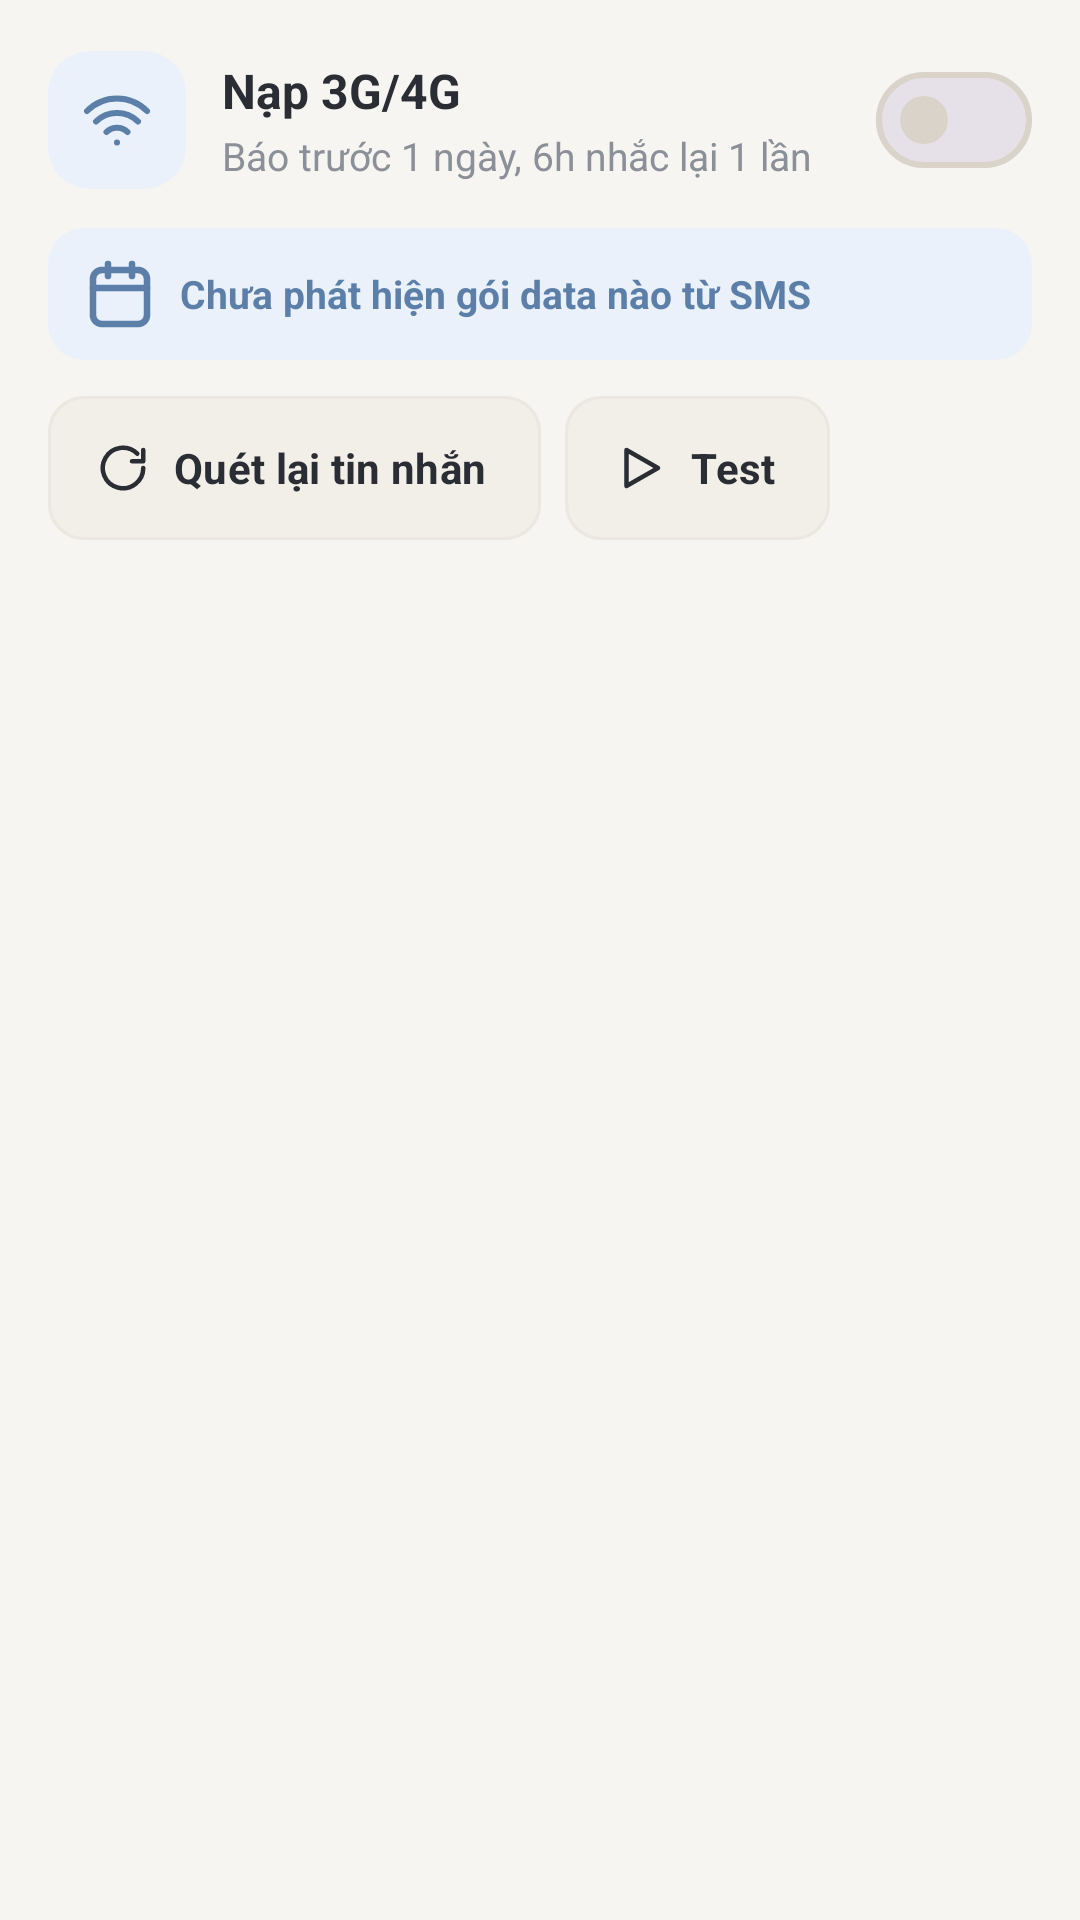

Named icons in this screenshot (1080*1920) and their centers, (x=x, y=y):
wifi: (x=117, y=120)
